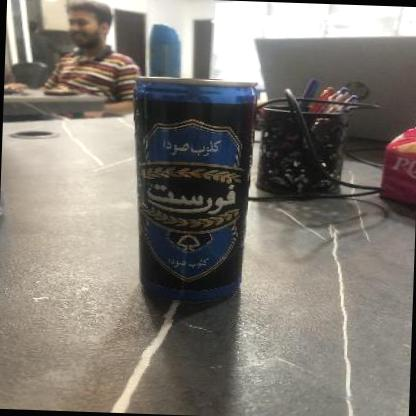alumunium_can: (126, 70, 262, 306)
